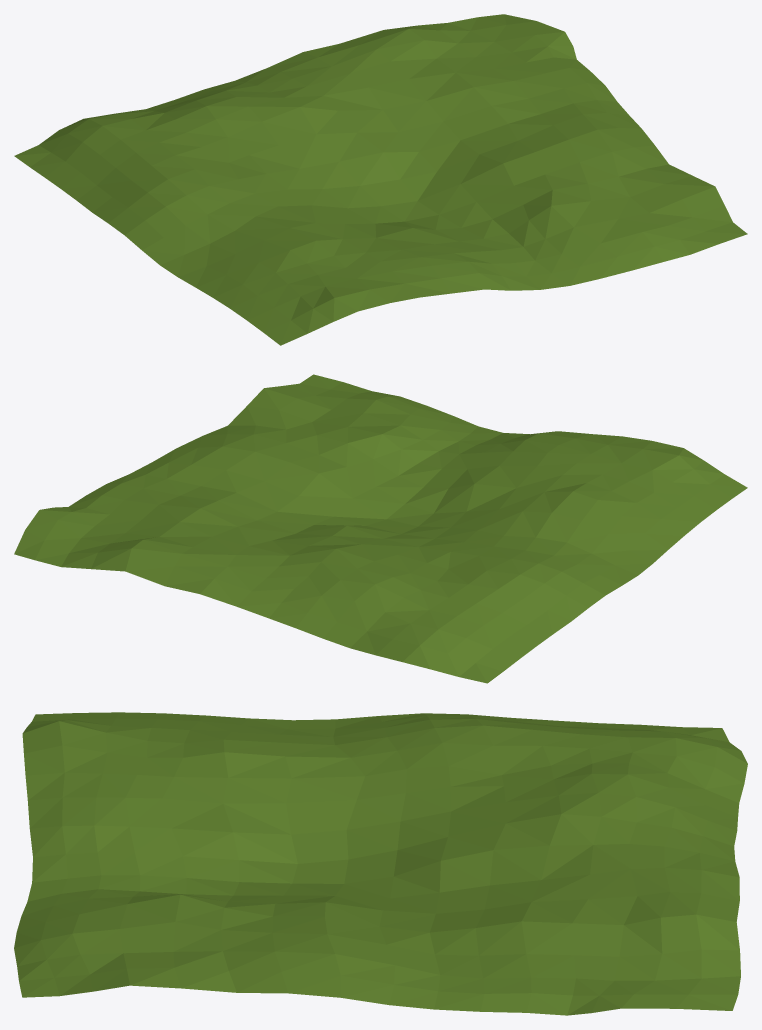
Rendered from world-mesh.dae.
The picture shows the model from 3 angles, top to bottom: view 1: azimuth 30°, elevation 25°; view 2: azimuth 150°, elevation 25°; view 3: azimuth 270°, elevation 25°; orthographic projection. The views are drawn at different scales.
Visible parts, largest first — view 1: Plane; view 2: Plane; view 3: Plane.
Boxes of the visible parts, box(x1,y1,x2,y2) form: Plane: box(14, 14, 747, 345); Plane: box(14, 374, 747, 683); Plane: box(14, 712, 747, 1015).
Size of the model in its own units: 113 by 109 by 8.56.
